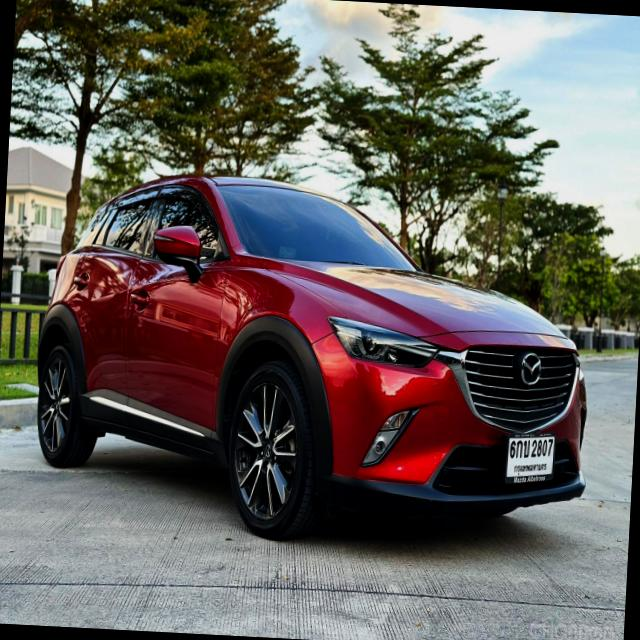license_plate: (502, 427, 560, 488)
